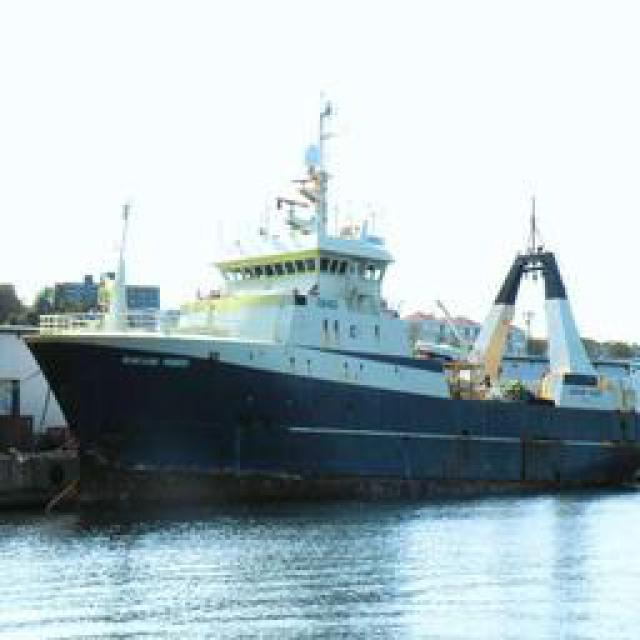Ship: (25, 132, 628, 490)
